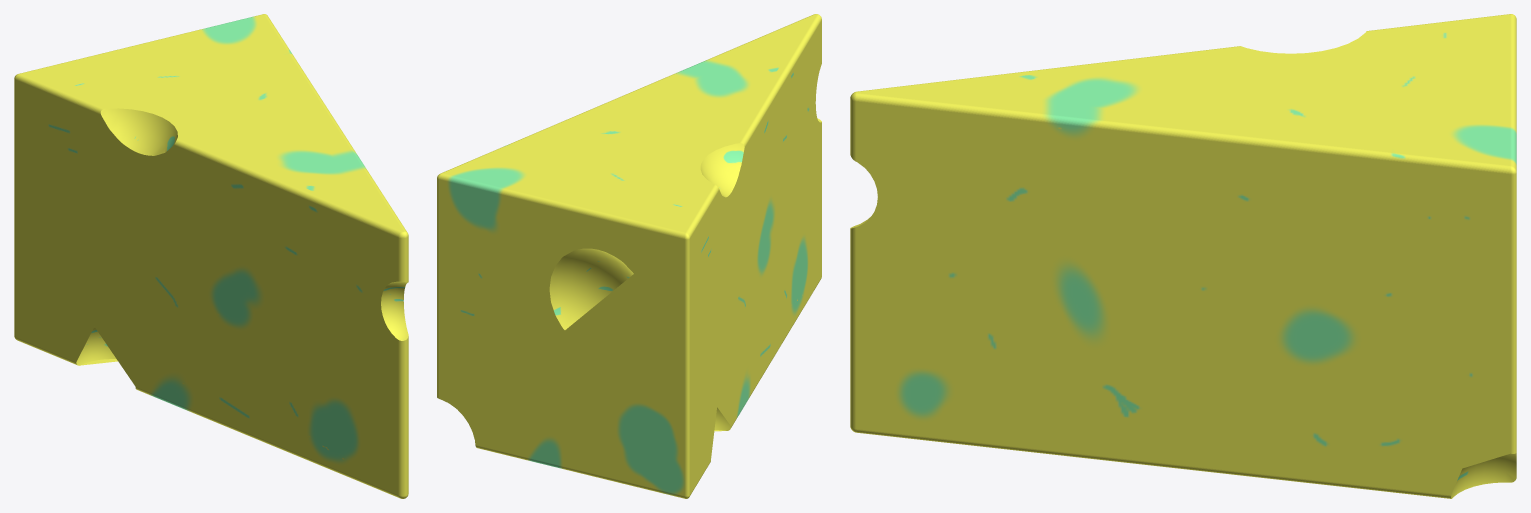
The model's file is Cheese.fbx.
The picture shows the model from 3 angles, left to right: view 1: azimuth 30°, elevation 25°; view 2: azimuth 150°, elevation 25°; view 3: azimuth 270°, elevation 25°; orthographic projection. The views are drawn at different scales.
Parts seen in each view (by area): view 1: Cube; view 2: Cube; view 3: Cube.
Boxes of the visible parts, left/top/right/bottom form: Cube: left=14, top=14, right=408, bottom=498; Cube: left=437, top=14, right=821, bottom=498; Cube: left=850, top=14, right=1516, bottom=498.
Size of the model in its own units: 198 by 200 by 356.
